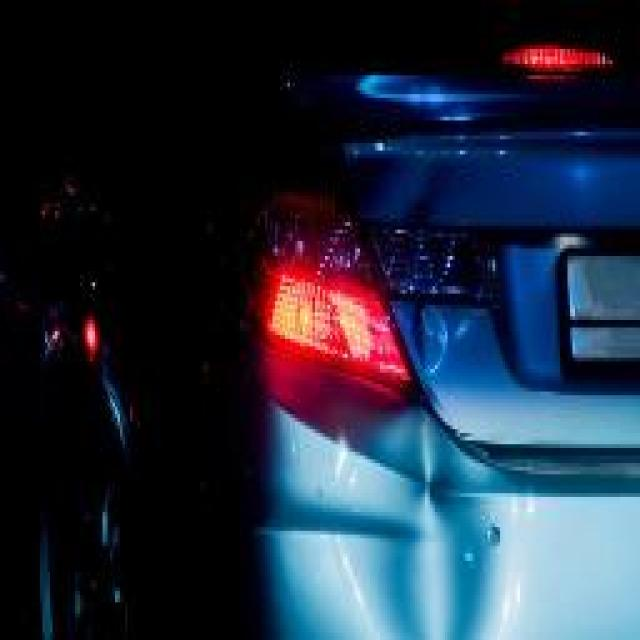Bumper: (280, 414, 640, 640)
Dickey: (388, 196, 532, 380)
